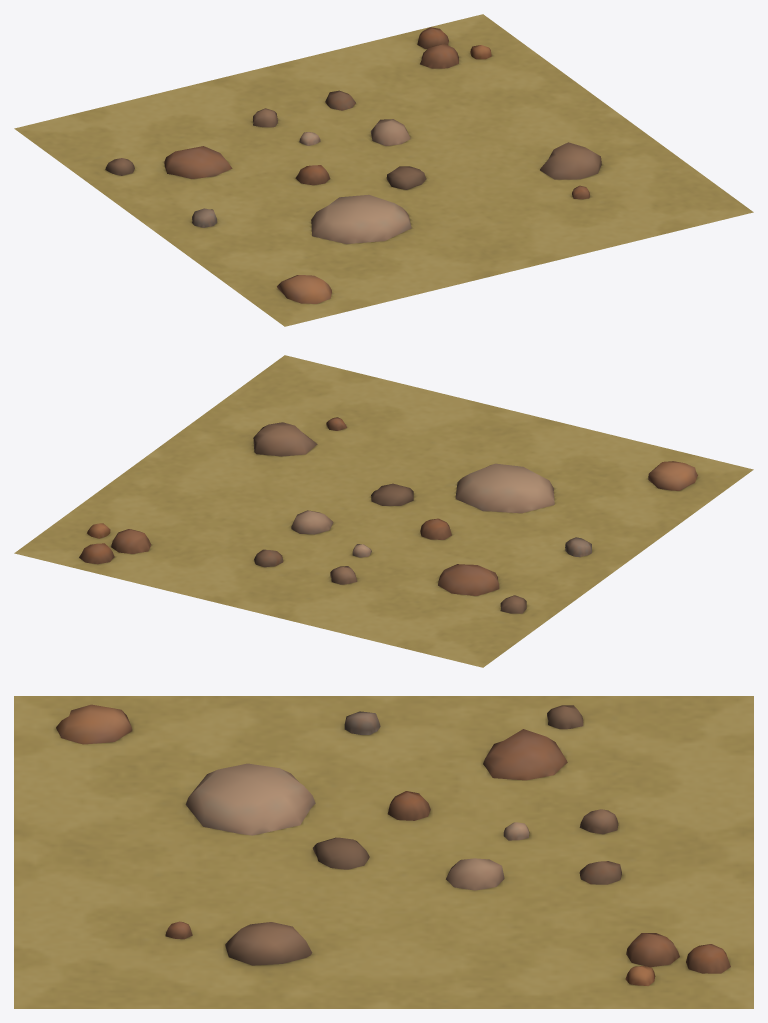
The model's file is R-Sol_Cailloux1.FBX.
3 renders of one model, top to bottom at view 1: azimuth 30°, elevation 25°; view 2: azimuth 150°, elevation 25°; view 3: azimuth 270°, elevation 25°, orthographic. The views are drawn at different scales.
Visible parts, largest first — view 1: Sol_Cailloux1; view 2: Sol_Cailloux1; view 3: Sol_Cailloux1.
Part boxes in pixels (bbox=[...]): Sol_Cailloux1: bbox=[14, 14, 753, 326]; Sol_Cailloux1: bbox=[14, 355, 753, 667]; Sol_Cailloux1: bbox=[14, 696, 753, 1008].
Bounding box in the file's own units: 2 × 0.1279 × 2.
